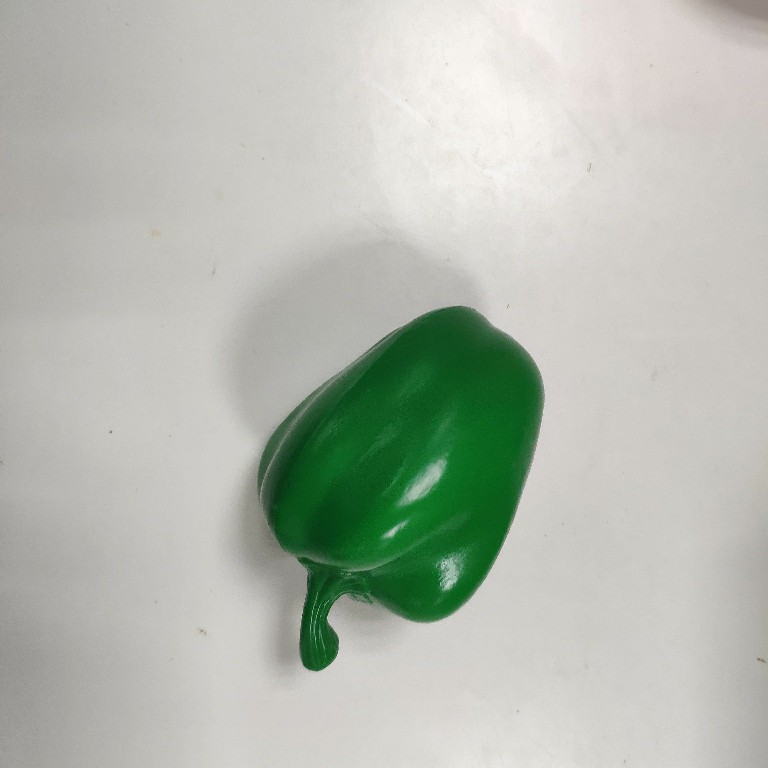fruit_pepper: (255, 303, 546, 674)
